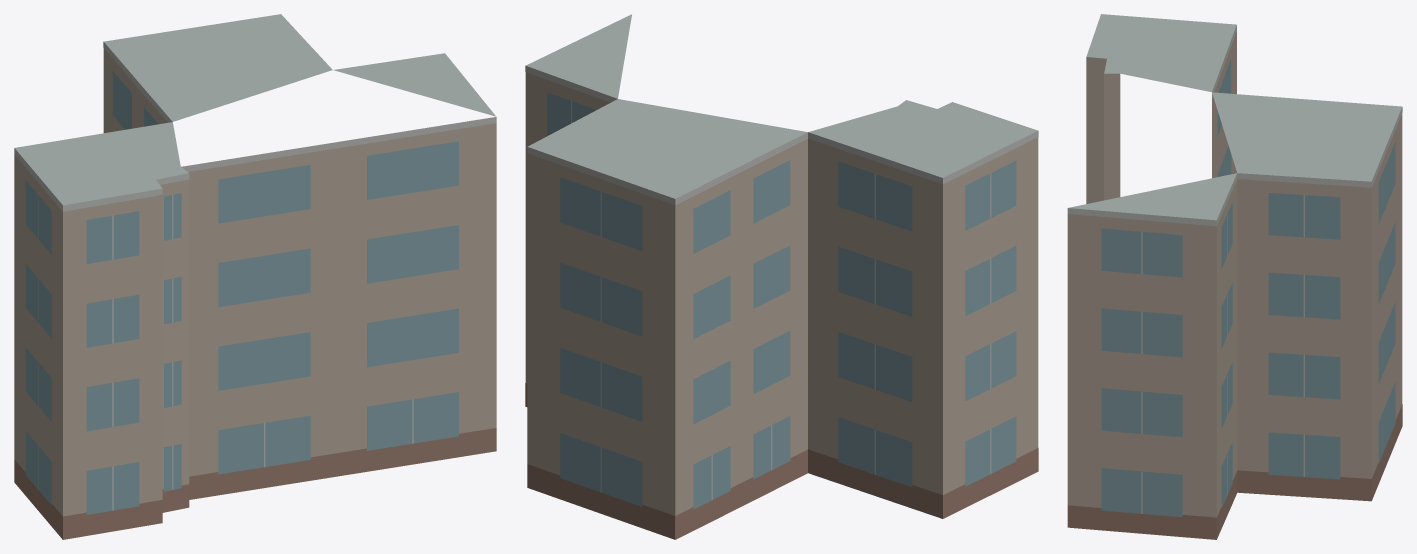
The model's file is survey-upis-32755370.glb.
The picture shows the model from 3 angles, left to right: view 1: azimuth 30°, elevation 25°; view 2: azimuth 150°, elevation 25°; view 3: azimuth 270°, elevation 25°; orthographic projection. The views are drawn at different scales.
Parts seen in each view (by area): view 1: survey-upis-32755370.tmp; view 2: survey-upis-32755370.tmp; view 3: survey-upis-32755370.tmp.
Boxes of the visible parts, x1=… form: survey-upis-32755370.tmp: x1=14, y1=14, x2=496, y2=539; survey-upis-32755370.tmp: x1=525, y1=14, x2=1038, y2=539; survey-upis-32755370.tmp: x1=1067, y1=14, x2=1402, y2=539.
Size of the model in its own units: 18.01 by 13 by 12.36.
